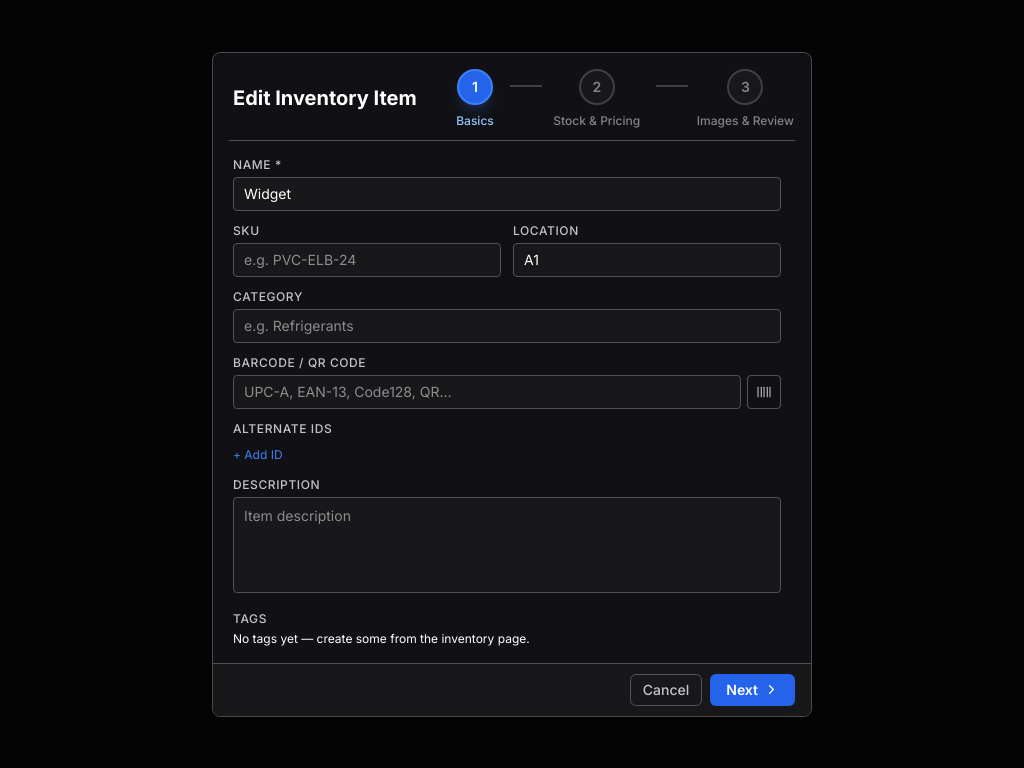
it: step gating › holds an edit on the step whose required field was cleared
Clear the field with placeholder "Item Name" below "Name *" at (507, 194), box [233,176,781,210]
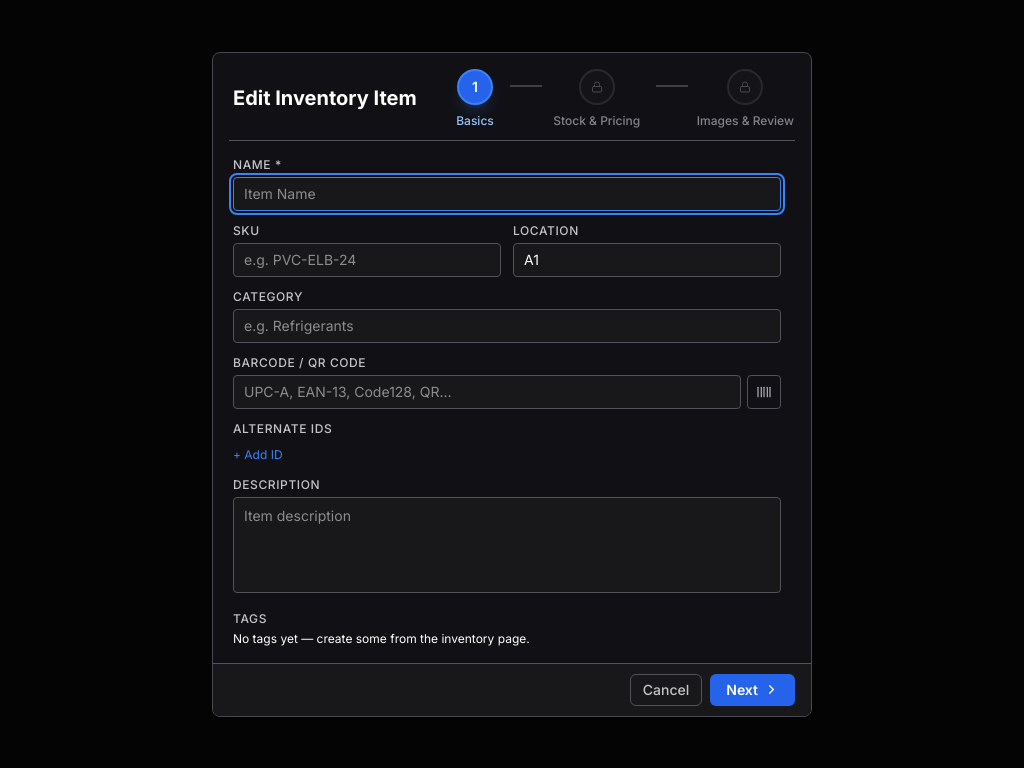
Click the button "Next" at (753, 690), box [710,674,795,706]
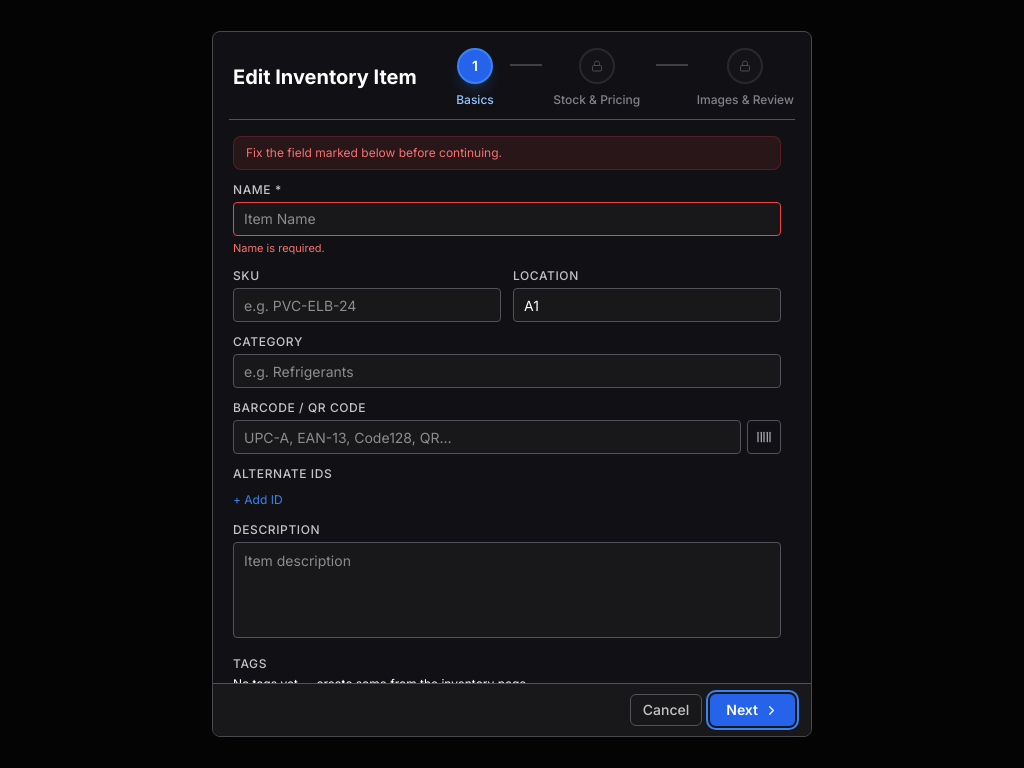
Check: the text "Name is required." is shown, box [233,241,325,255]
